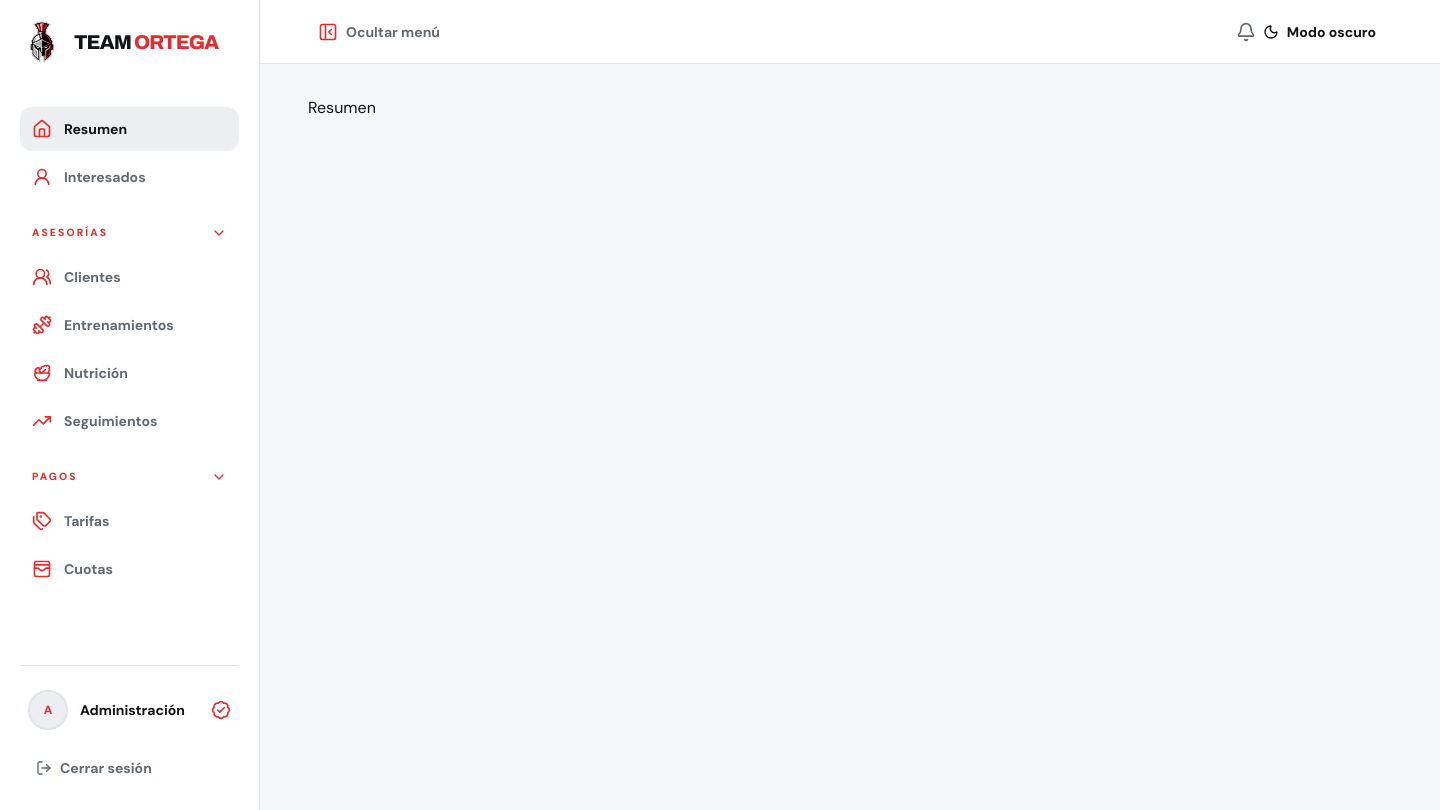
Test case: DashboardShell › permite plegar asesorías y pagos y recuerda la elección
Click the button with aria-label "Ocultar Asesorías" at (130, 233), box [20, 215, 239, 251]
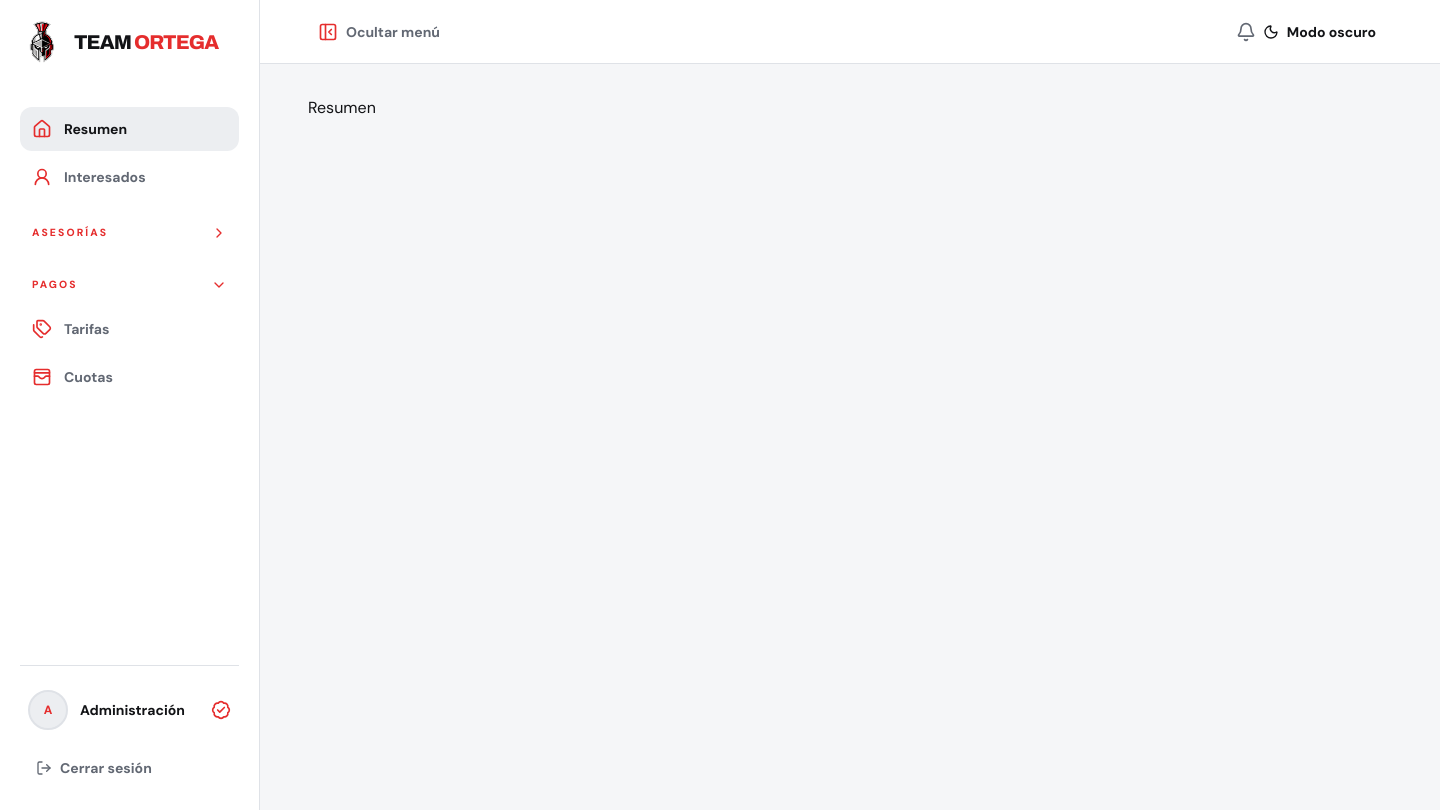
Check: the link "Clientes" is gone
Click the button with aria-label "Ocultar Pagos" at (130, 285), box [20, 267, 239, 303]
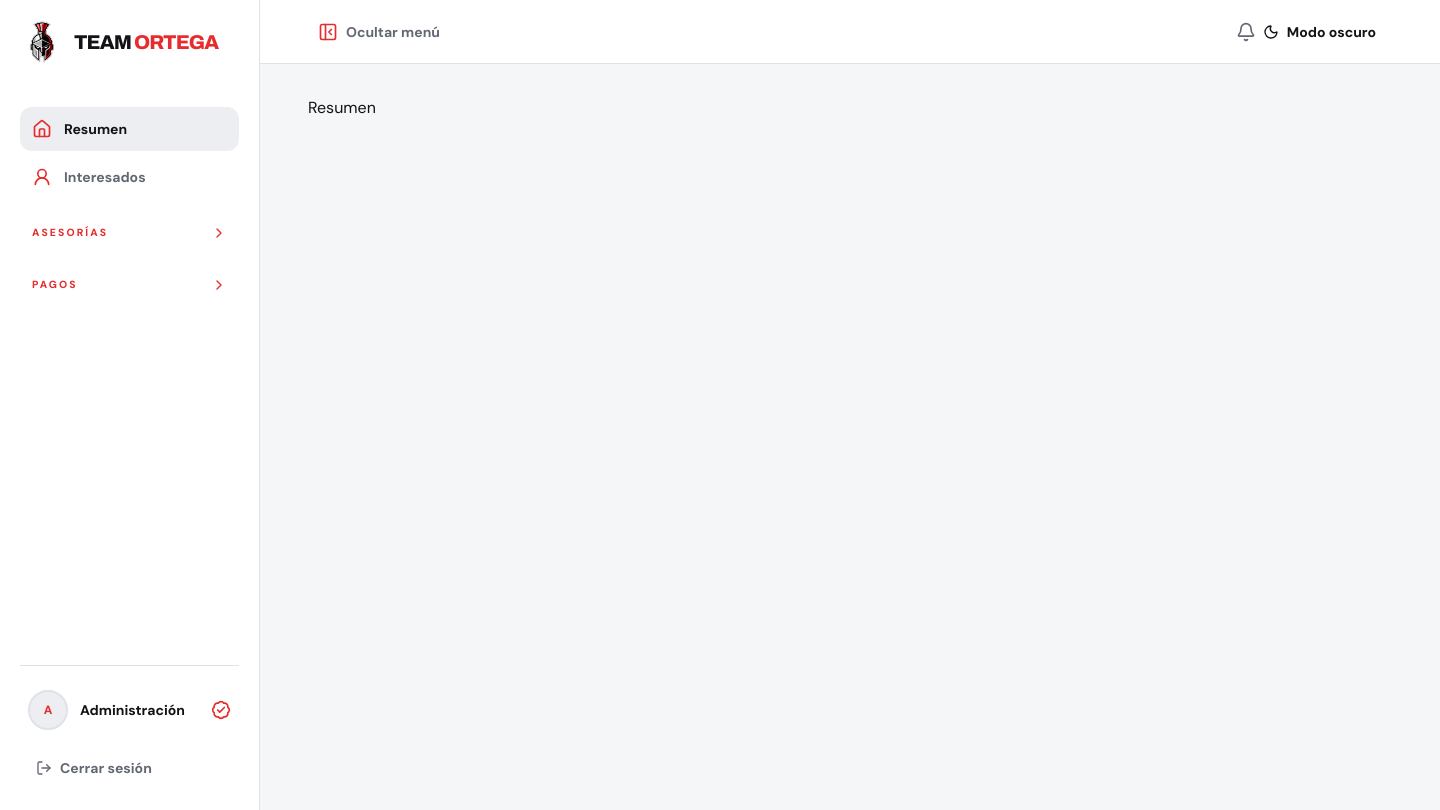
Check: the link "Tarifas" is gone
Click the button with aria-label "Mostrar Asesorías" at (130, 233), box [20, 215, 239, 251]
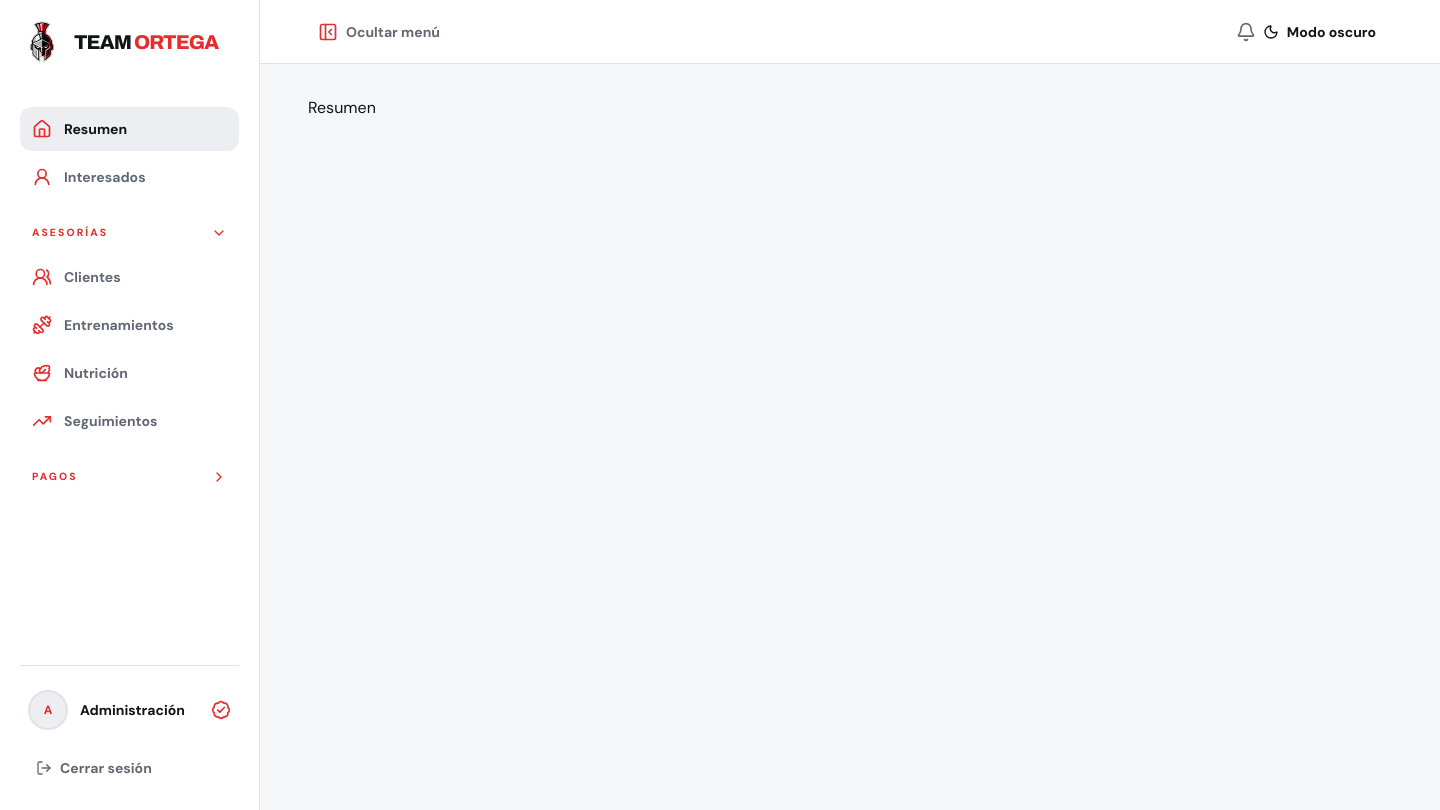
Check: the number of links "Clientes" is 2
